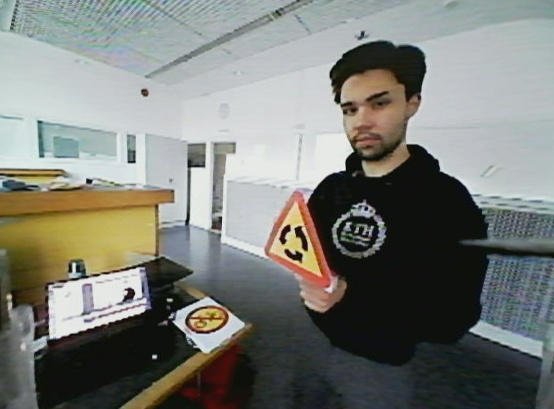roundabout_warning: (257, 186, 337, 290)
